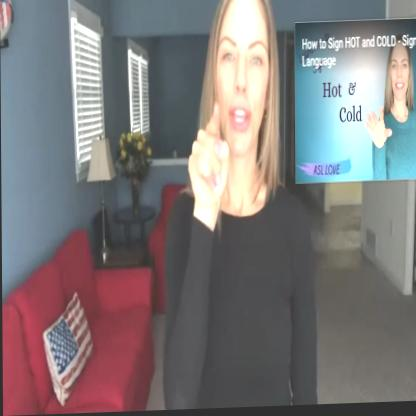NiceToMeetYou: (160, 0, 320, 411)
